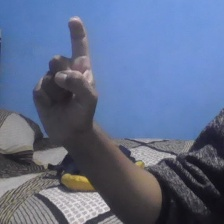X: (26, 15, 99, 147)
